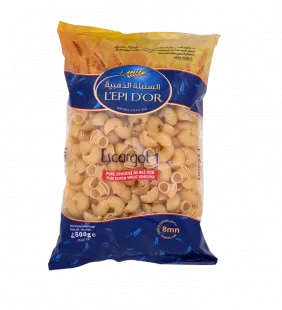L'EPI D'OR: (43, 12, 229, 277)
